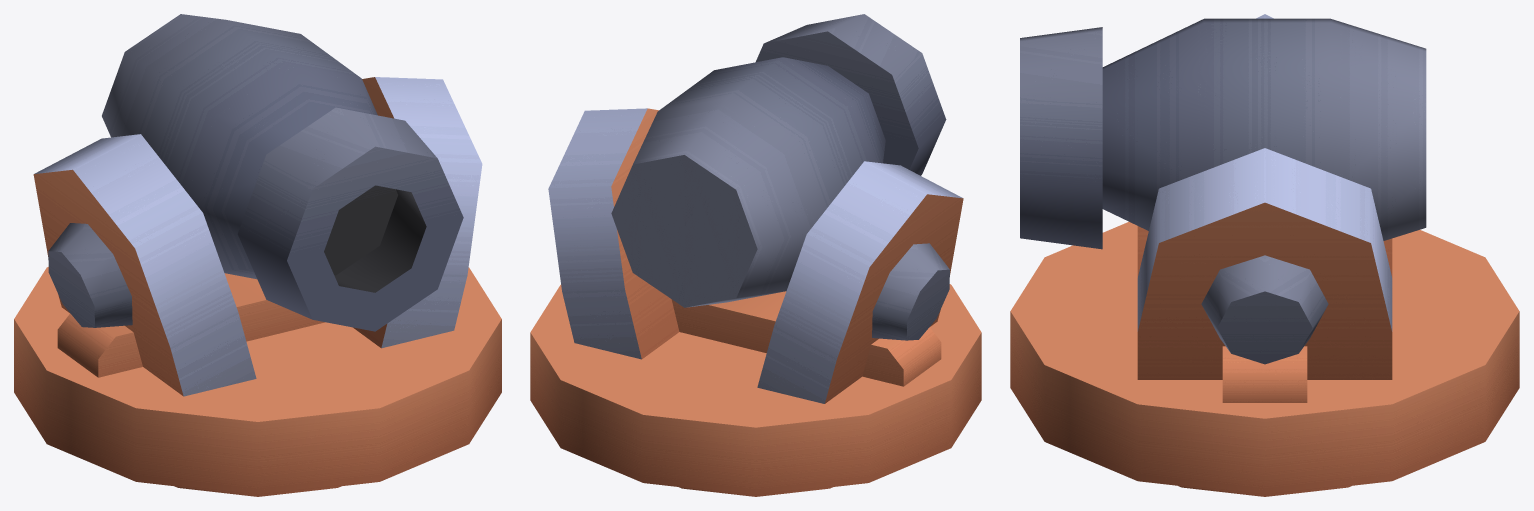
Rendered from cannon.glb.
The picture shows the model from 3 angles, left to right: view 1: azimuth 30°, elevation 25°; view 2: azimuth 150°, elevation 25°; view 3: azimuth 270°, elevation 25°; orthographic projection. The views are drawn at different scales.
Visible parts, largest first — view 1: weapon-cannon, barrel.002; view 2: weapon-cannon, barrel.002; view 3: weapon-cannon, barrel.002.
Part boxes in pixels (left/top/right/bottom): weapon-cannon: left=14, top=77, right=501, bottom=496; barrel.002: left=102, top=14, right=463, bottom=331; weapon-cannon: left=530, top=108, right=981, bottom=496; barrel.002: left=611, top=14, right=946, bottom=307; weapon-cannon: left=1010, top=14, right=1519, bottom=496; barrel.002: left=1020, top=18, right=1426, bottom=249.
Size of the model in its own units: 0.6 by 0.5247 by 0.6.
Materials: 1 (1 with a texture image).
